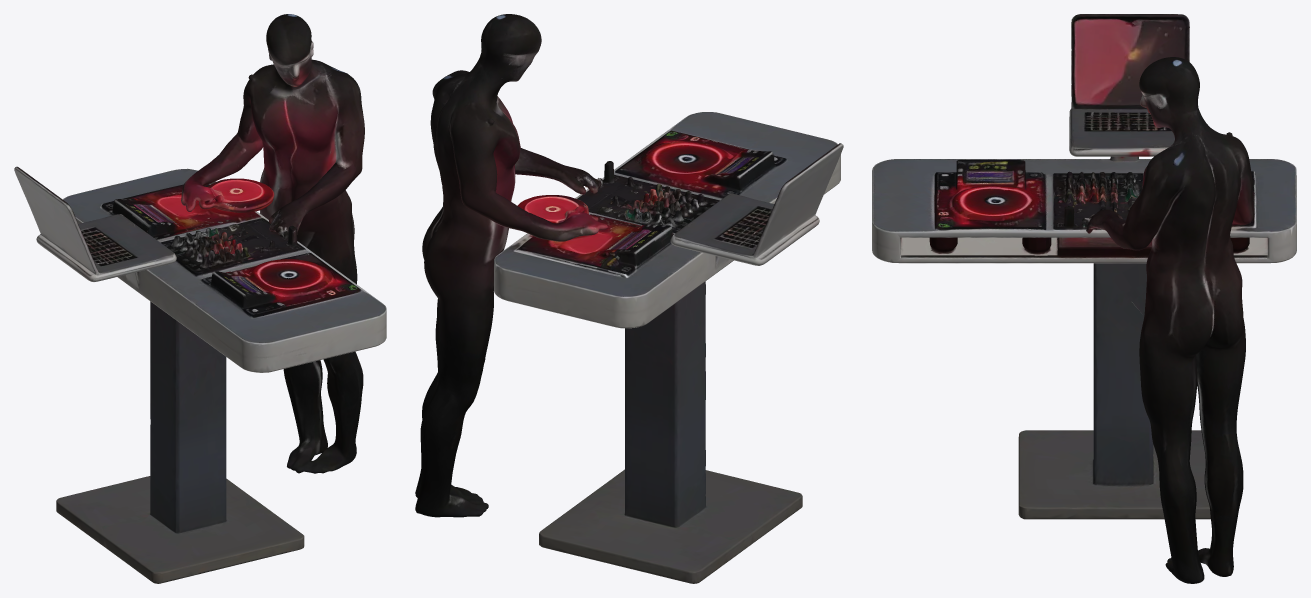
Rendered from mesa3d.glb.
3 renders of one model, left to right at view 1: azimuth 30°, elevation 25°; view 2: azimuth 150°, elevation 25°; view 3: azimuth 270°, elevation 25°, orthographic. The views are drawn at different scales.
Parts seen in each view (by area): view 1: tripo_node_ff307507-13a9-47d8-a423-a7ffc9c6ed1a; view 2: tripo_node_ff307507-13a9-47d8-a423-a7ffc9c6ed1a; view 3: tripo_node_ff307507-13a9-47d8-a423-a7ffc9c6ed1a.
Boxes of the visible parts, x1,y1,x2,y2 form: tripo_node_ff307507-13a9-47d8-a423-a7ffc9c6ed1a: [14, 14, 386, 583]; tripo_node_ff307507-13a9-47d8-a423-a7ffc9c6ed1a: [415, 14, 843, 583]; tripo_node_ff307507-13a9-47d8-a423-a7ffc9c6ed1a: [872, 14, 1296, 583].
Bounding box in the file's own units: 0.7784 × 0.9999 × 0.7867.
1 material, 1 textured.
